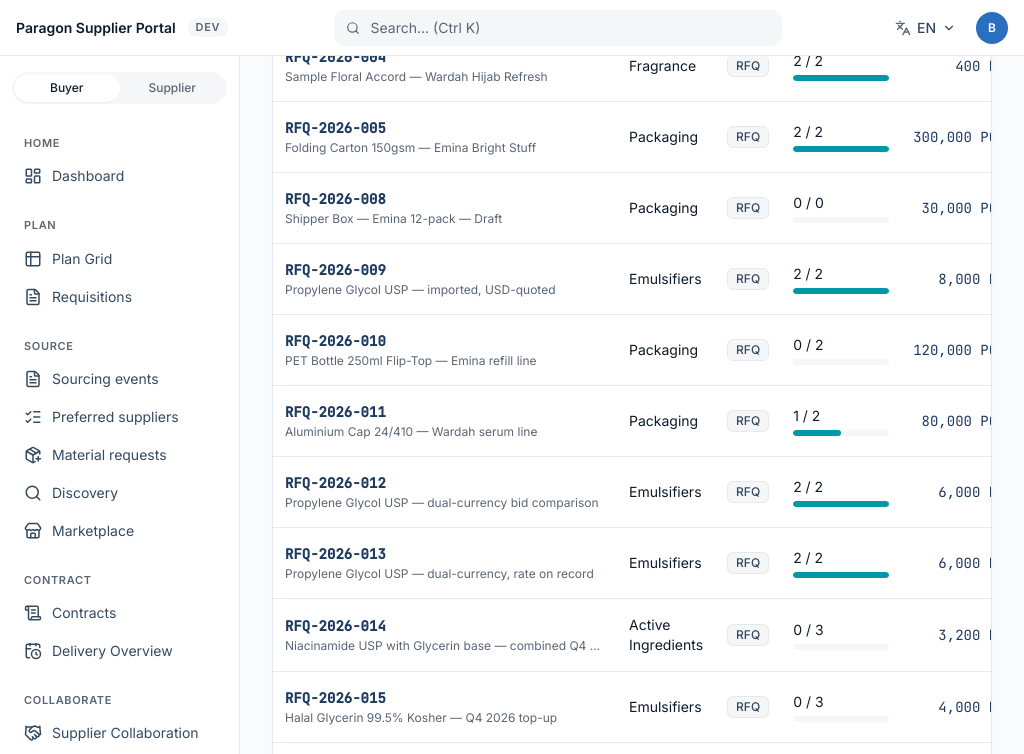
Test: BuyerSourcing — the lead-time axis is labelled an estimate › POSITIVE TWIN — the lead-time value is still shown, and still scored
(page scrolled)
Click the text "RFQ-2026-011": (335, 412) x1=285 y1=403 x2=386 y2=421
(page scrolled)
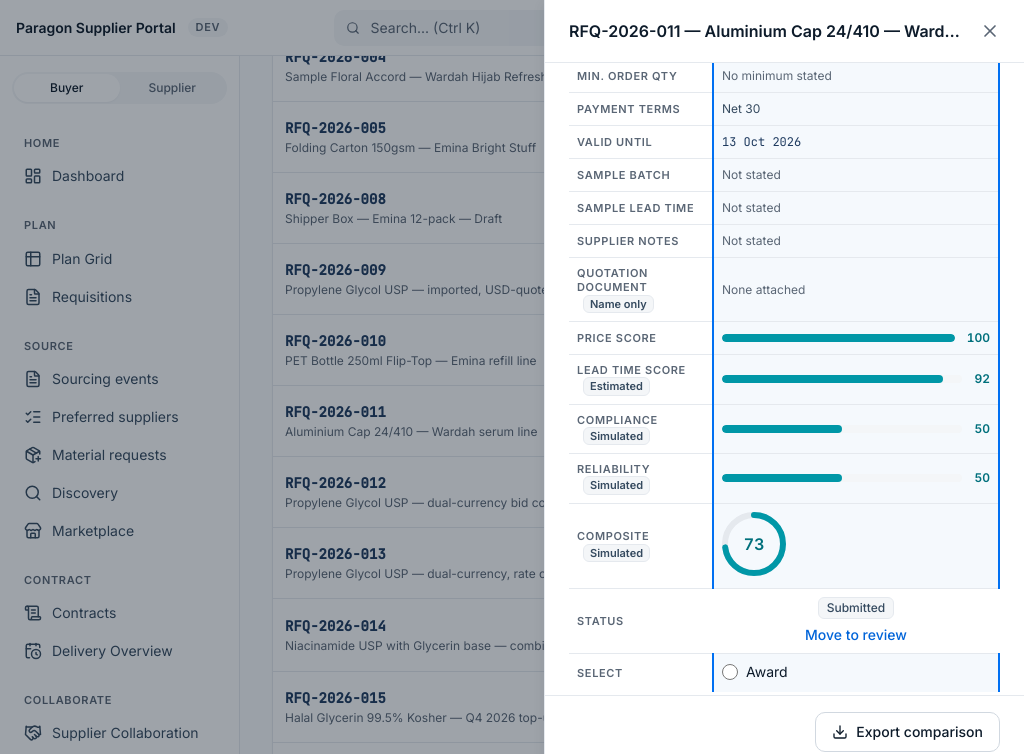
Now the column heading "Lead Time Score" is shown, box x1=577 y1=363 x2=686 y2=377
